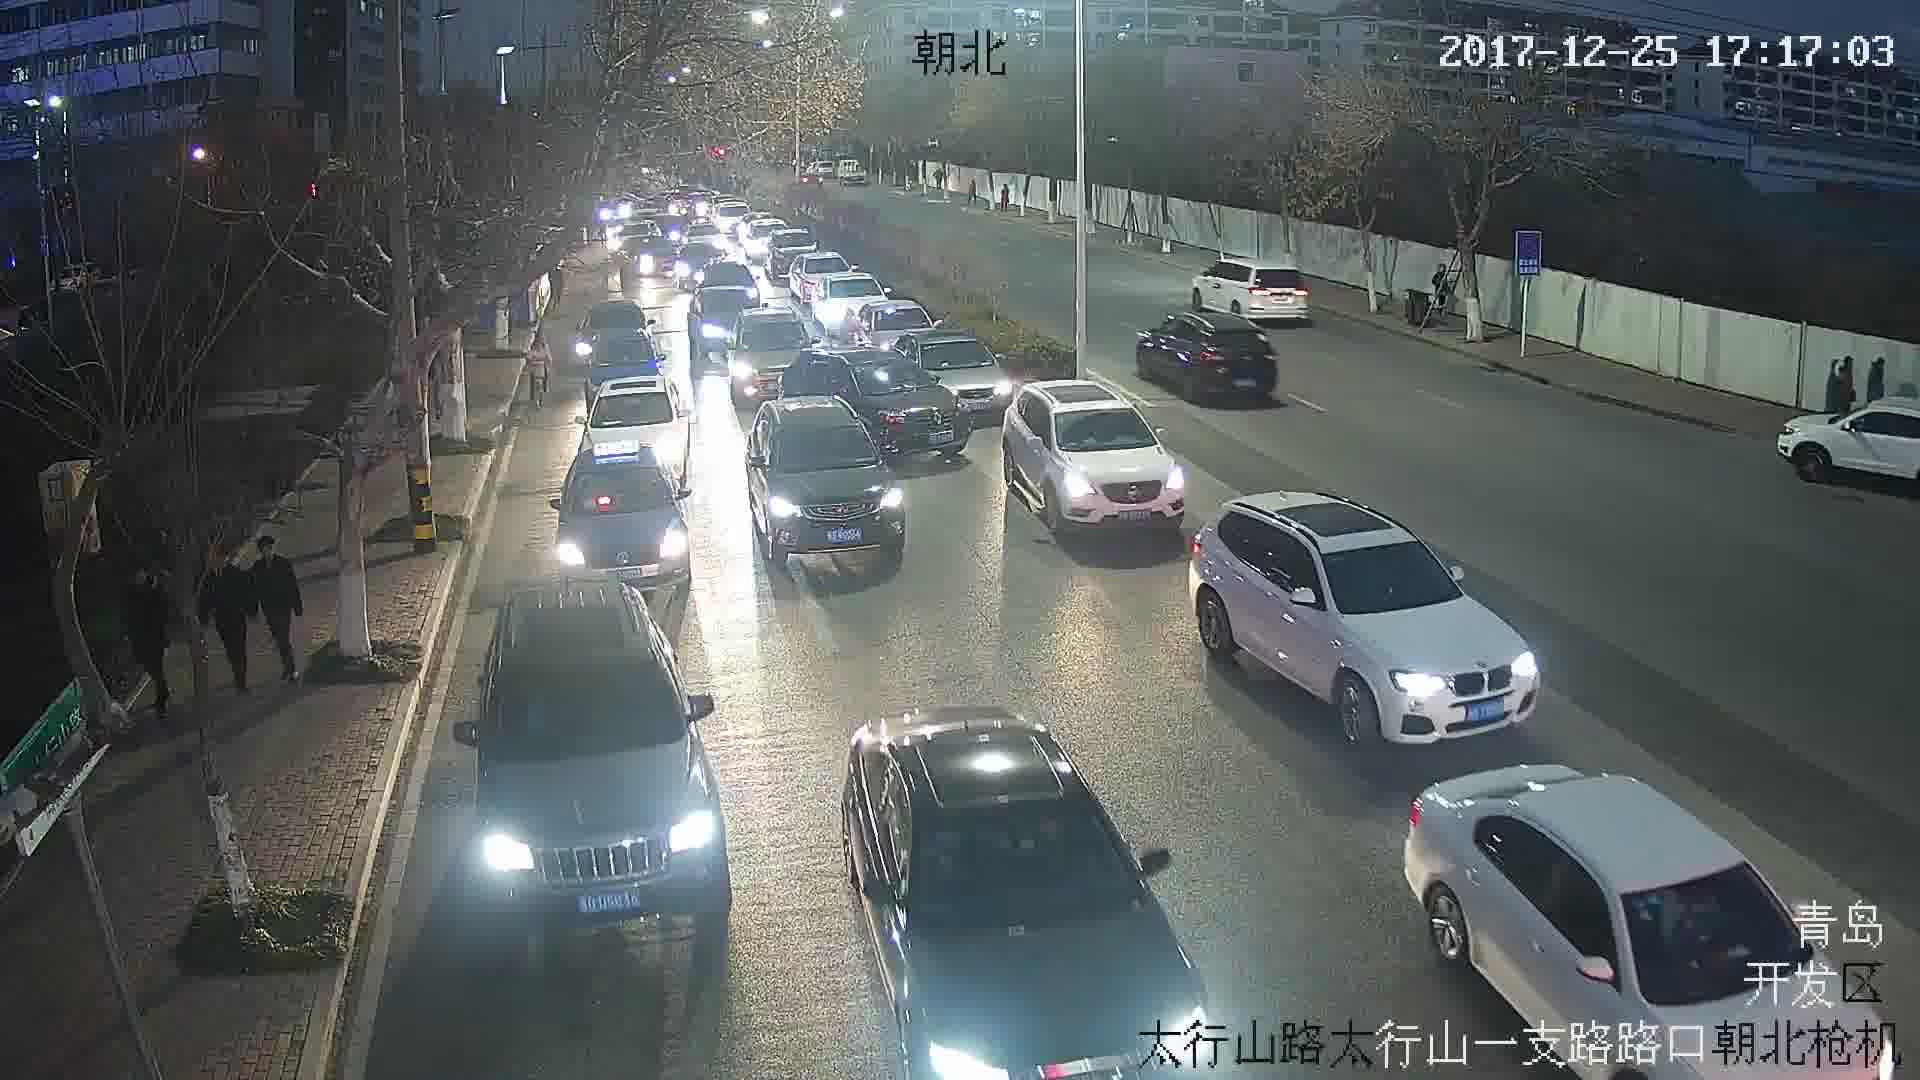car: (846, 710, 1217, 1071), (455, 578, 737, 920), (1188, 491, 1541, 741), (995, 377, 1188, 530), (739, 395, 907, 557), (550, 441, 693, 582), (1138, 314, 1280, 402), (1191, 256, 1314, 323), (732, 310, 809, 399)
person: (198, 549, 257, 689), (123, 570, 174, 719), (253, 539, 303, 685), (1437, 264, 1455, 320)
